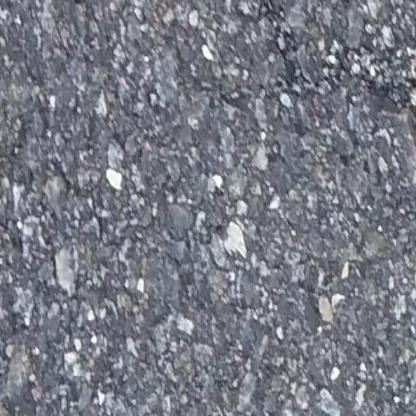Cracks: (236, 0, 416, 98)
